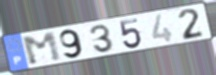2: (176, 7, 205, 41)
3: (89, 23, 114, 54)
4: (151, 13, 175, 43)
5: (119, 17, 143, 49)
9: (58, 28, 85, 60)
M: (20, 31, 65, 67)
